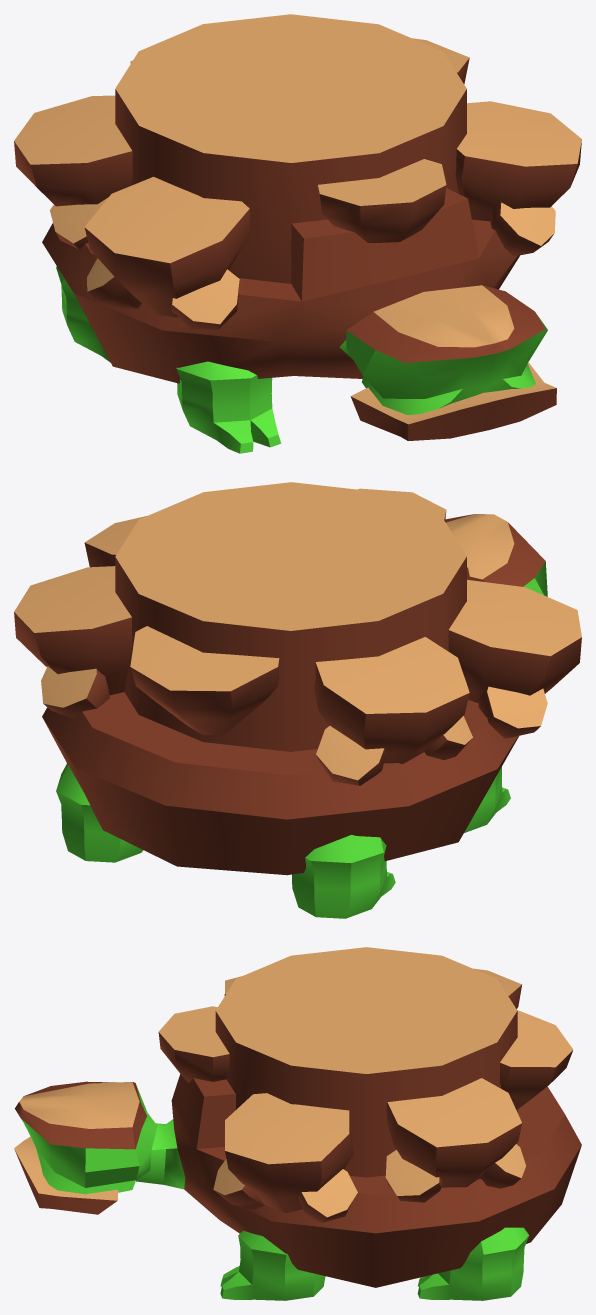
Rendered from Tartaruga.fbx.
3 views of the same model, one above another, from view 1: azimuth 30°, elevation 25°; view 2: azimuth 150°, elevation 25°; view 3: azimuth 270°, elevation 25° (orthographic). The views are drawn at different scales.
Parts seen in each view (by area): view 1: TurtleMESH; view 2: TurtleMESH; view 3: TurtleMESH.
Boxes of the visible parts, x1,y1,x2,y2 form: TurtleMESH: [14, 14, 581, 453]; TurtleMESH: [14, 482, 581, 918]; TurtleMESH: [14, 947, 581, 1300].
Size of the model in its own units: 148 by 81.67 by 181.
